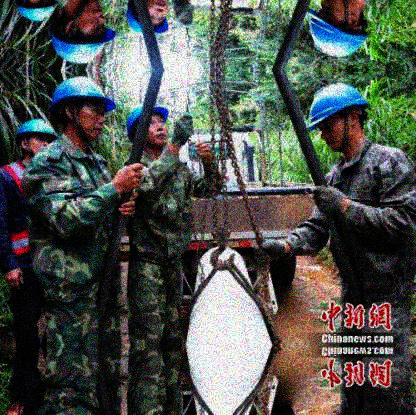helmet: (48, 76, 117, 149), (305, 83, 372, 157), (49, 2, 122, 65), (300, 1, 372, 56), (123, 105, 173, 154), (12, 116, 55, 157), (125, 1, 172, 37)
